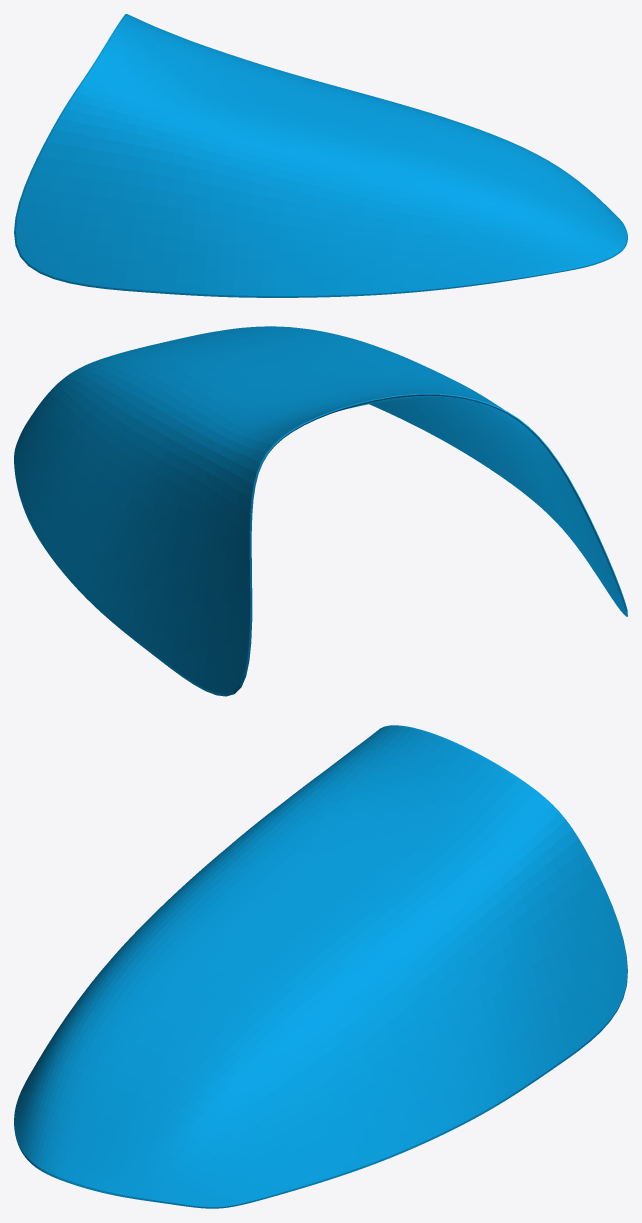
File: frontRightBLUE.obj
The picture shows the model from 3 angles, top to bottom: view 1: azimuth 30°, elevation 25°; view 2: azimuth 150°, elevation 25°; view 3: azimuth 270°, elevation 25°; orthographic projection. The views are drawn at different scales.
Parts seen in each view (by area): view 1: Plane; view 2: Plane; view 3: Plane.
Boxes of the visible parts, <box> form: Plane: <box>14,14,627,297</box>; Plane: <box>14,326,627,696</box>; Plane: <box>14,725,627,1208</box>.
Size of the model in its own units: 14.77 by 5.41 by 12.28.
1 material, 1 textured.
